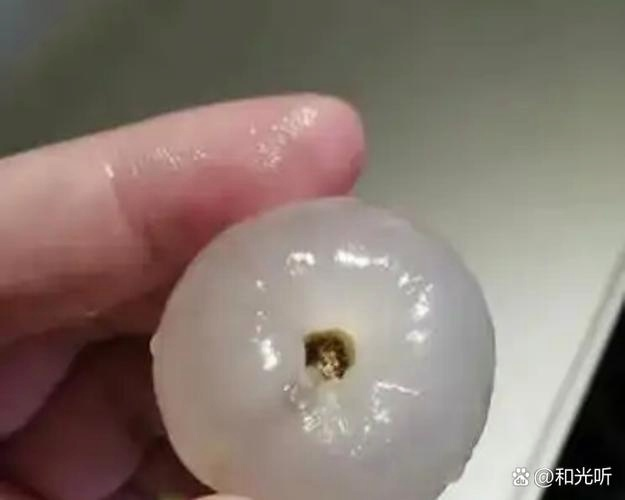Borer: (304, 320, 365, 406)
